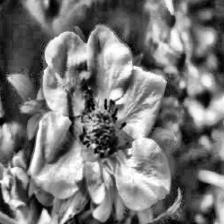Blossom Blight: (66, 88, 137, 170)
